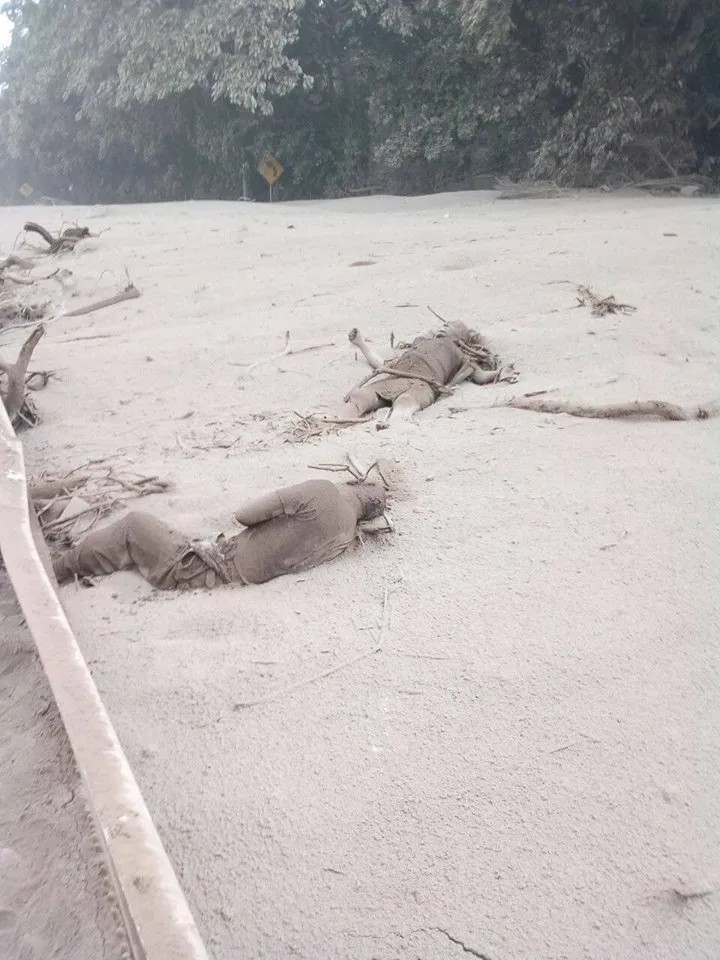Korban: (49, 477, 386, 592), (334, 317, 520, 422)
